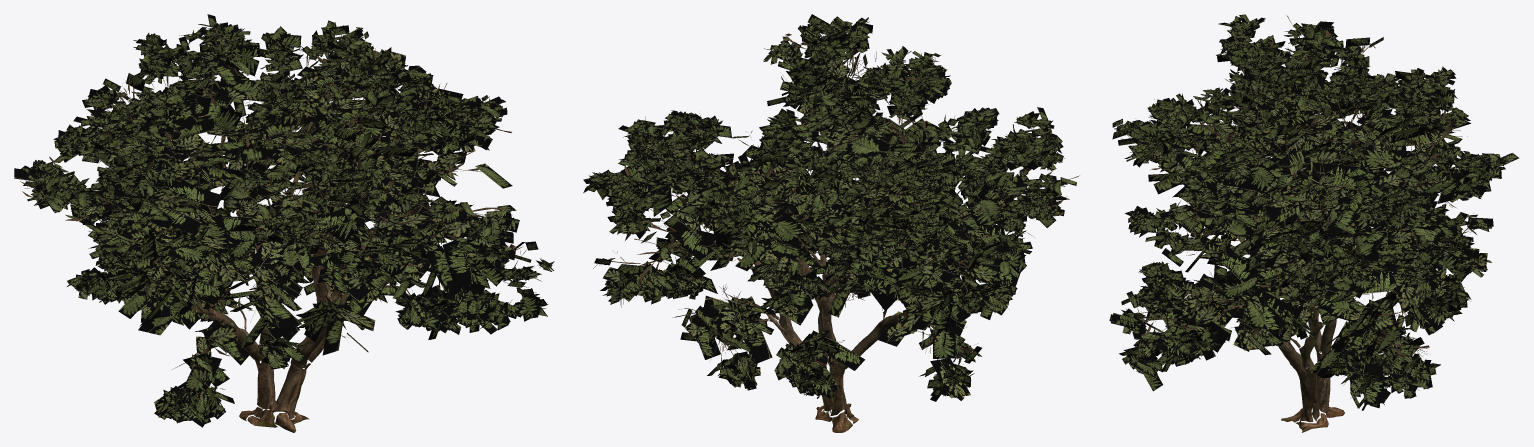
Rendered from tree_jacaranda.glb.
The picture shows the model from 3 angles, left to right: view 1: azimuth 30°, elevation 25°; view 2: azimuth 150°, elevation 25°; view 3: azimuth 270°, elevation 25°; orthographic projection. The views are drawn at different scales.
Parts seen in each view (by area): view 1: jacaranda_tree; view 2: jacaranda_tree; view 3: jacaranda_tree.
Part boxes in pixels (<box>): jacaranda_tree: <box>14,14,554,432</box>; jacaranda_tree: <box>583,14,1079,432</box>; jacaranda_tree: <box>1109,14,1519,432</box>.
Size of the model in its own units: 25.12 by 19.47 by 19.57.
3 materials, 3 textured.
